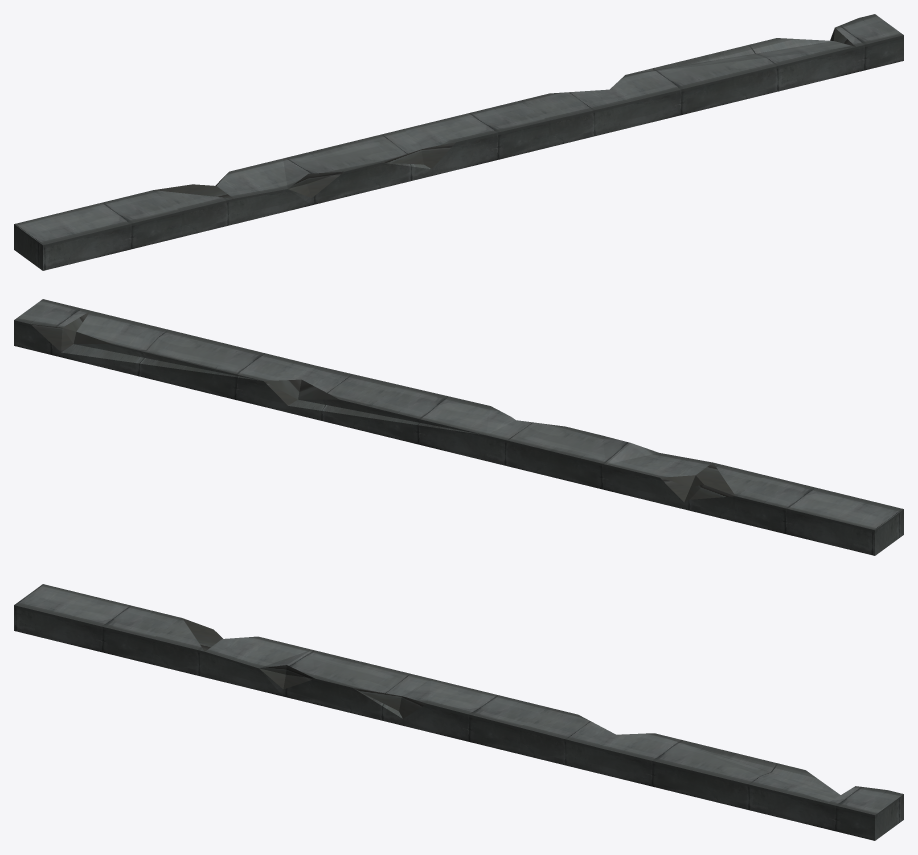
Rendered from sewer_room_brick002.FBX.
The picture shows the model from 3 angles, top to bottom: view 1: azimuth 30°, elevation 25°; view 2: azimuth 150°, elevation 25°; view 3: azimuth 330°, elevation 25°; orthographic projection.
Visible parts, largest first — view 1: sewer_room_brick002; view 2: sewer_room_brick002; view 3: sewer_room_brick002.
Boxes of the visible parts, box(x1,y1,x2,y2) form: sewer_room_brick002: box(14, 14, 903, 270); sewer_room_brick002: box(14, 299, 903, 555); sewer_room_brick002: box(14, 584, 903, 840).
Size of the model in its own units: 2000 by 64.04 by 116.
